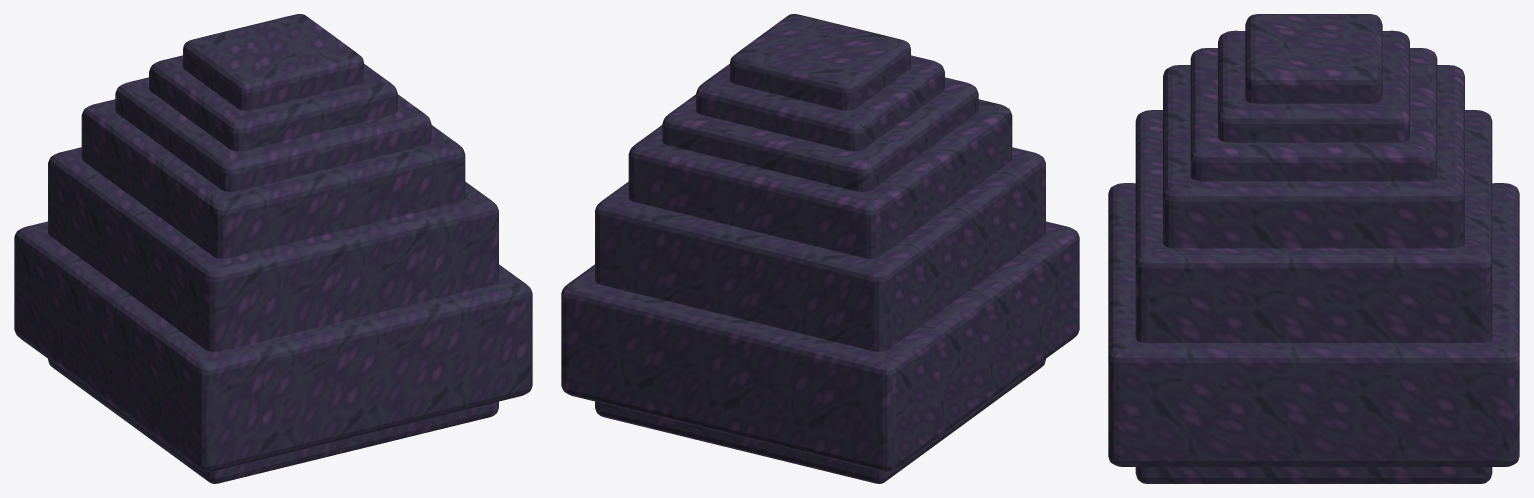
File: egg.glb
3 views of the same model, side by side, from view 1: azimuth 30°, elevation 25°; view 2: azimuth 150°, elevation 25°; view 3: azimuth 270°, elevation 25° (orthographic). The views are drawn at different scales.
Visible parts, largest first — view 1: Dragon_Egg; view 2: Dragon_Egg; view 3: Dragon_Egg.
Boxes of the visible parts, x1=… form: Dragon_Egg: x1=14, y1=14, x2=532, y2=483; Dragon_Egg: x1=561, y1=14, x2=1079, y2=483; Dragon_Egg: x1=1108, y1=14, x2=1519, y2=483.
Size of the model in its own units: 2 by 1.98 by 2.
Materials: 1 (1 with a texture image).
